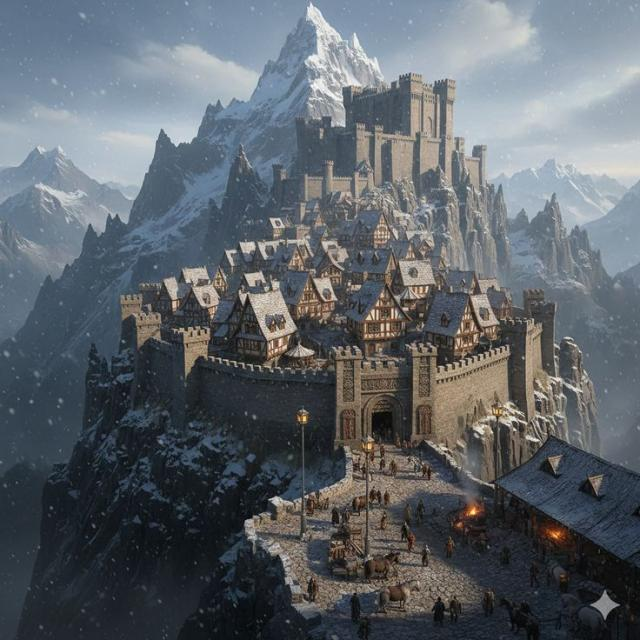castle: (75, 61, 594, 458)
